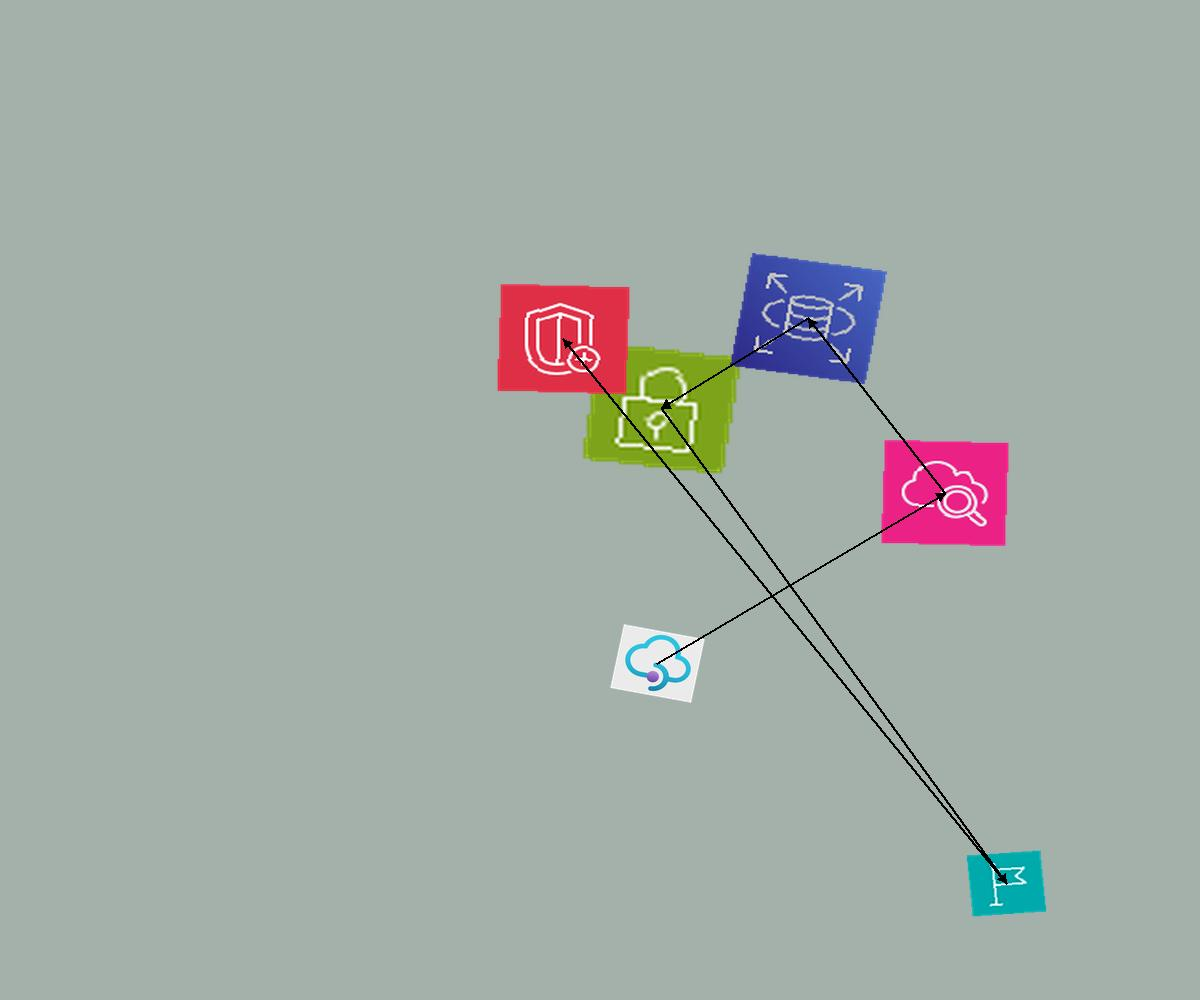AWS-CloudWatch: (880, 439, 1010, 547)
AWS-Public-subnet: (580, 341, 743, 476)
AWS-RDS: (730, 253, 887, 384)
AWS-Region: (966, 850, 1047, 917)
AWS-Shield: (496, 283, 631, 395)
Azure_api_gateway: (610, 624, 705, 703)
